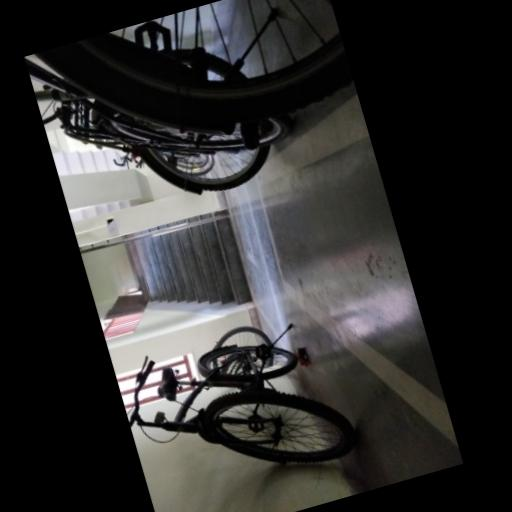stairs: (126, 216, 250, 302)
